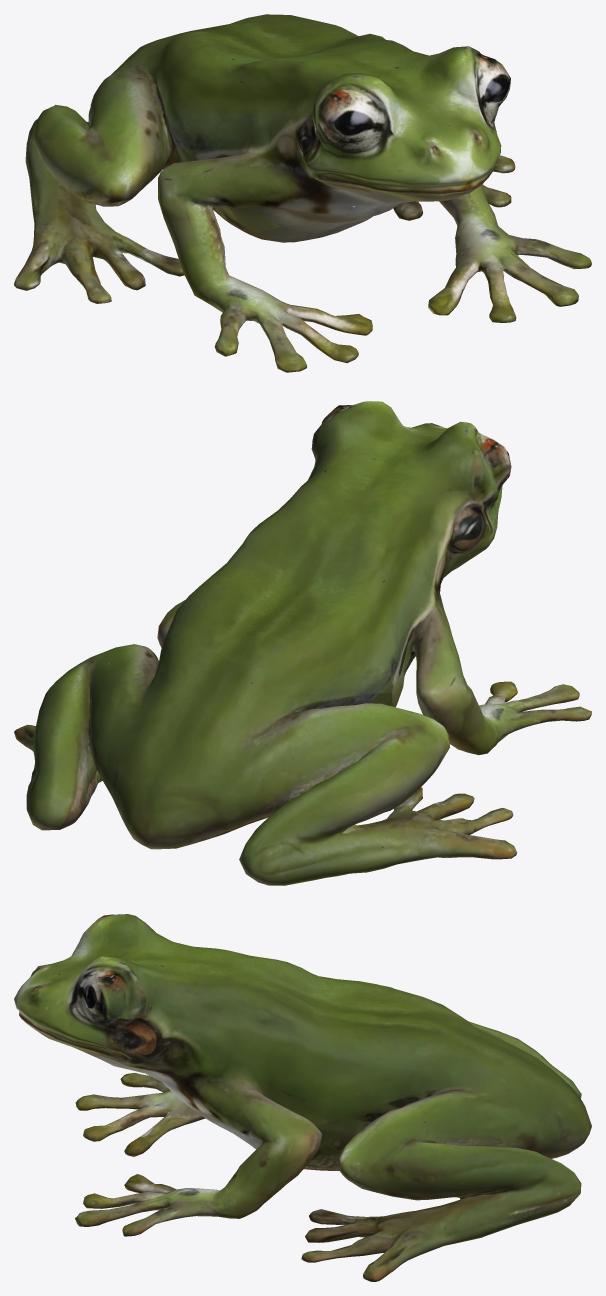
Rendered from beast-frogB.glb.
The picture shows the model from 3 angles, top to bottom: view 1: azimuth 30°, elevation 25°; view 2: azimuth 150°, elevation 25°; view 3: azimuth 270°, elevation 25°; orthographic projection. The views are drawn at different scales.
Size of the model in its own units: 1.75 by 0.9186 by 2.
Materials: 1 (1 with a texture image).
